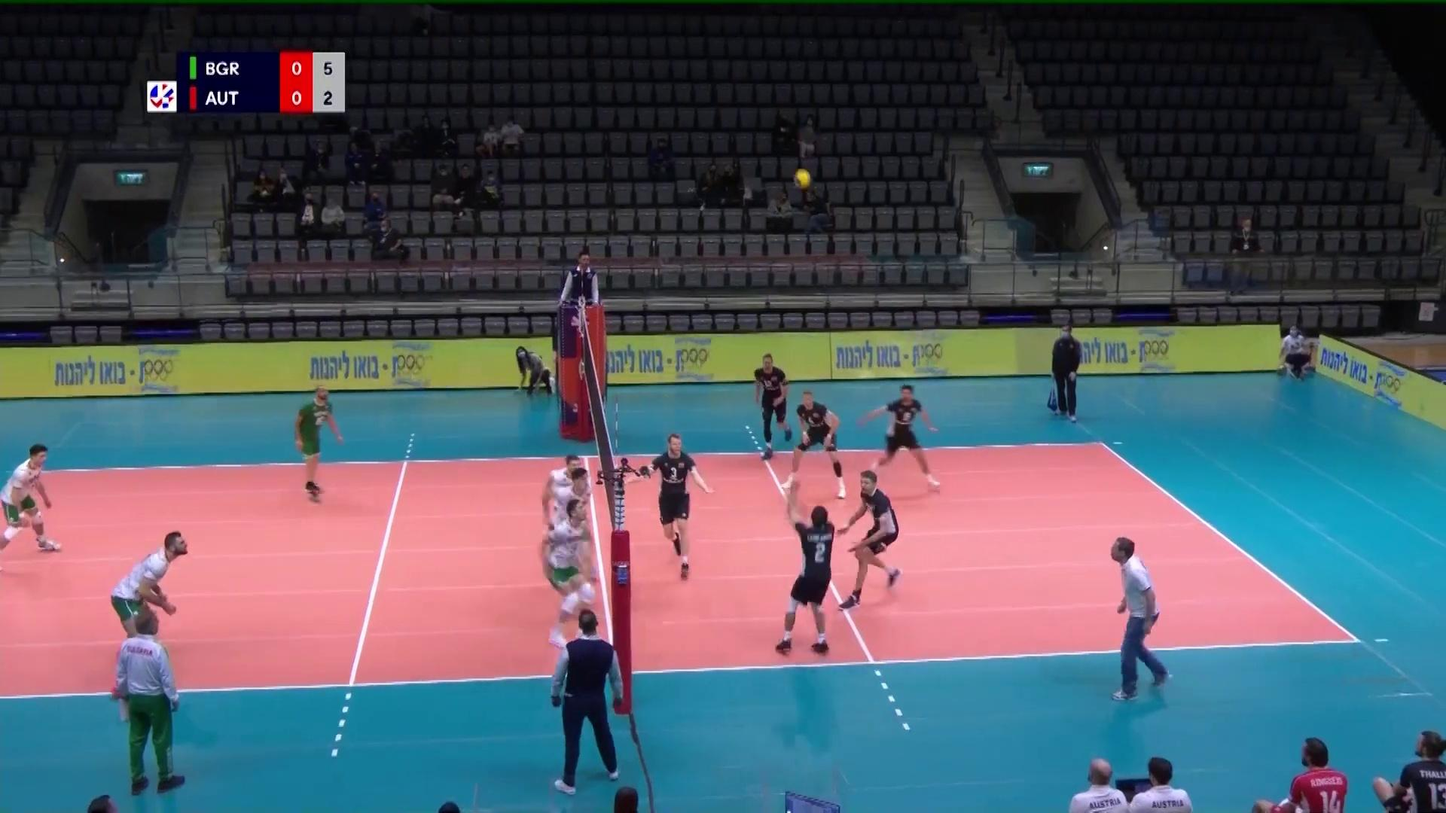ball: (793, 168, 813, 189)
